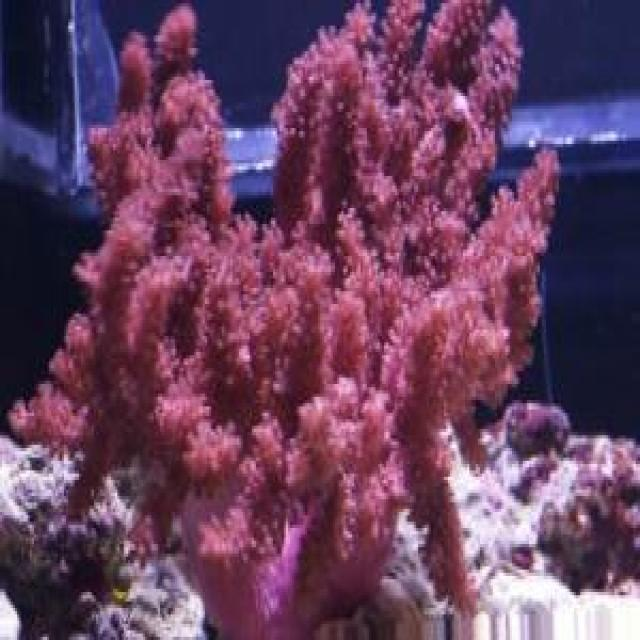healthy coral: (11, 2, 558, 637)
